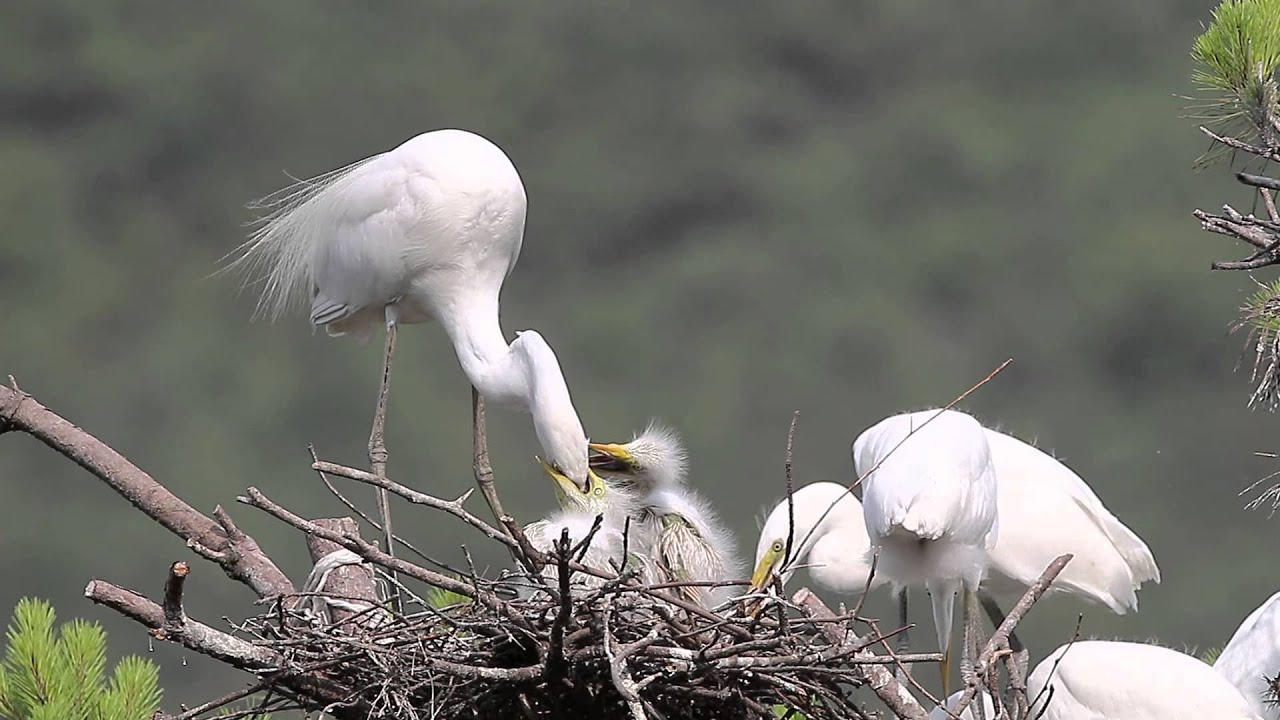ergret: (264, 127, 595, 499), (747, 430, 1139, 666), (853, 408, 998, 711), (593, 421, 740, 618), (522, 447, 646, 590)
